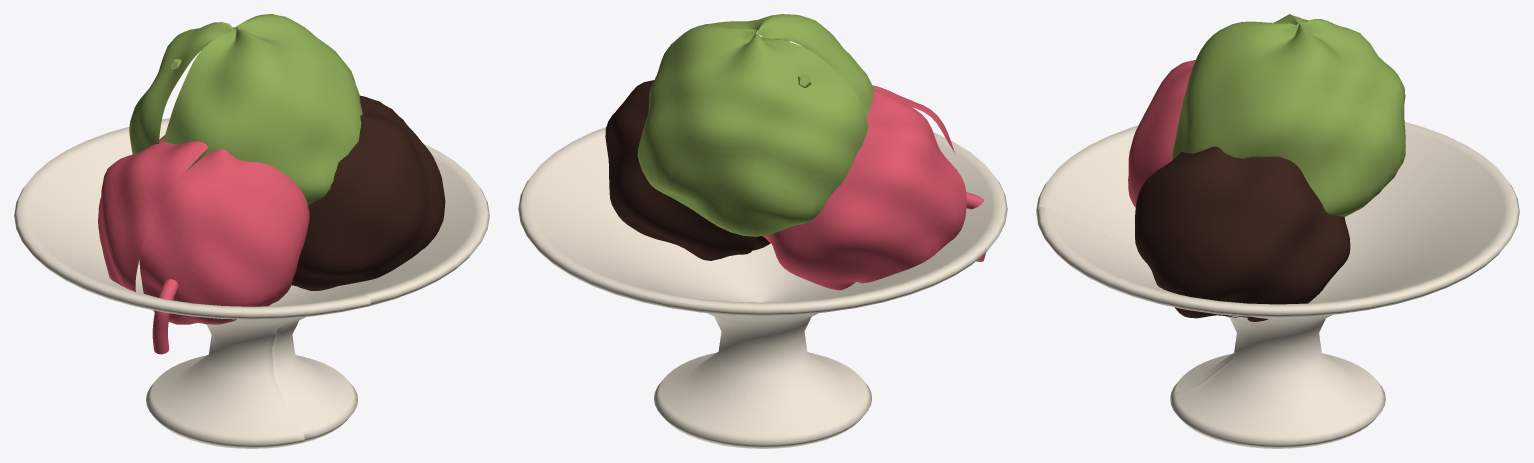
The model's file is gelato-dessert-coupe.glb.
3 renders of one model, left to right at view 1: azimuth 30°, elevation 25°; view 2: azimuth 150°, elevation 25°; view 3: azimuth 270°, elevation 25°, orthographic. The views are drawn at different scales.
Visible parts, largest first — view 1: PedestalCoupe, StrawberryScoop, PistachioScoop, ChocolateScoop, StrawberryDrip; view 2: PedestalCoupe, PistachioScoop, StrawberryScoop, ChocolateScoop; view 3: PedestalCoupe, PistachioScoop, ChocolateScoop, StrawberryScoop.
Part boxes in pixels (bbox=[...]): PedestalCoupe: bbox=[14, 118, 489, 448]; StrawberryScoop: bbox=[98, 135, 309, 324]; PistachioScoop: bbox=[129, 14, 362, 205]; ChocolateScoop: bbox=[291, 95, 445, 290]; StrawberryDrip: bbox=[152, 279, 178, 354]; PedestalCoupe: bbox=[518, 127, 1007, 448]; PistachioScoop: bbox=[637, 14, 874, 236]; StrawberryScoop: bbox=[763, 85, 966, 290]; ChocolateScoop: bbox=[605, 80, 770, 260]; PedestalCoupe: bbox=[1036, 122, 1519, 448]; PistachioScoop: bbox=[1171, 14, 1405, 217]; ChocolateScoop: bbox=[1135, 146, 1350, 321]; StrawberryScoop: bbox=[1128, 60, 1195, 206].
Size of the model in its own units: 2.6 by 2.26 by 2.6.
